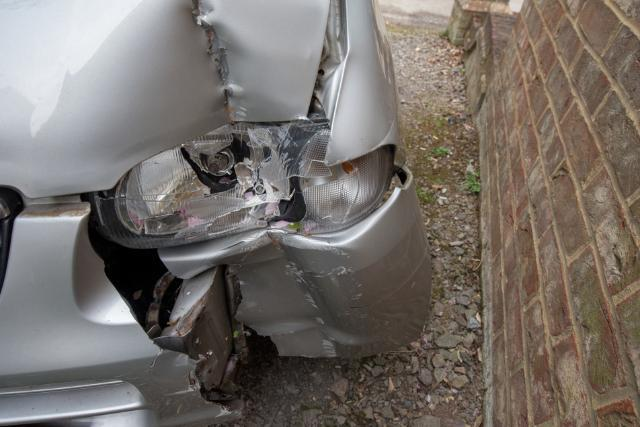Bonnet: (148, 0, 356, 130)
Bumper: (79, 200, 471, 420)
Light: (78, 117, 410, 253)
